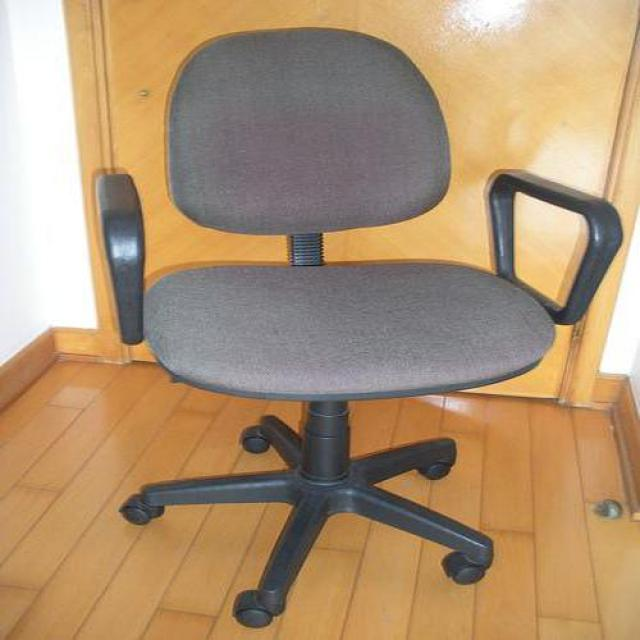swivelchair: (93, 29, 626, 631)
